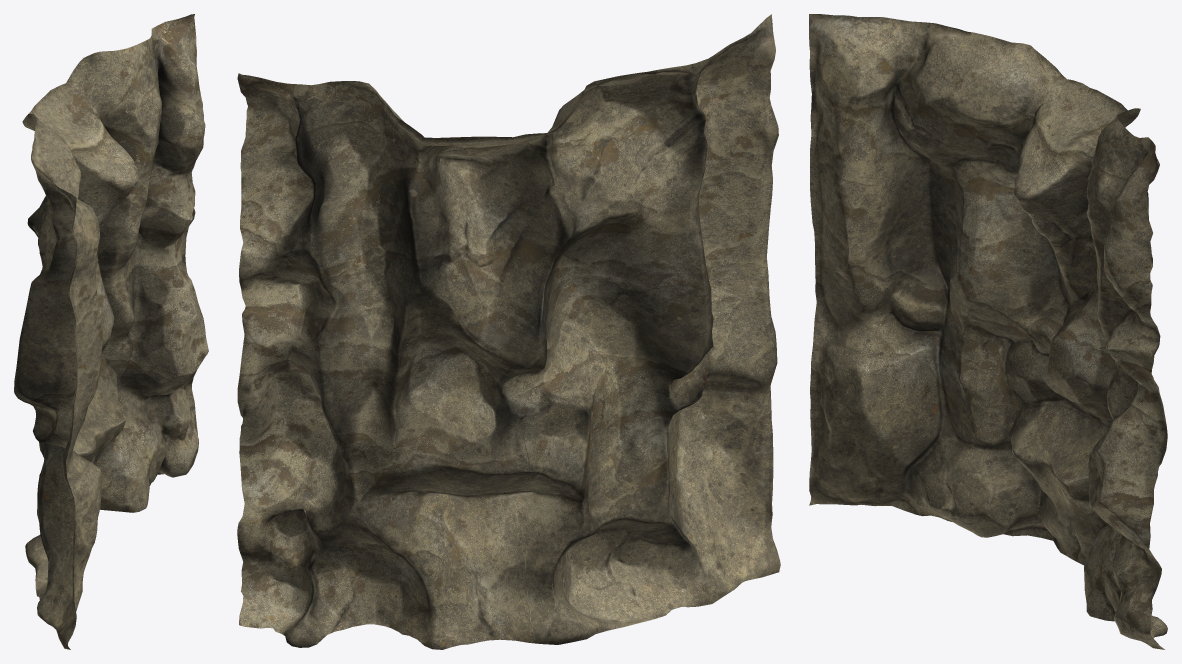
The model's file is cave_saltmine_jagged_wall_concave_02.dae.
3 renders of one model, left to right at view 1: azimuth 30°, elevation 25°; view 2: azimuth 150°, elevation 25°; view 3: azimuth 270°, elevation 25°, orthographic. The views are drawn at different scales.
Parts seen in each view (by area): view 1: wall_2_concave_90; view 2: wall_2_concave_90; view 3: wall_2_concave_90.
Part boxes in pixels (x1=…): wall_2_concave_90: x1=14, y1=14, x2=208, y2=649; wall_2_concave_90: x1=237, y1=14, x2=780, y2=649; wall_2_concave_90: x1=809, y1=14, x2=1167, y2=649.
Bounding box in the file's own units: 2.67 × 4.02 × 2.63.
